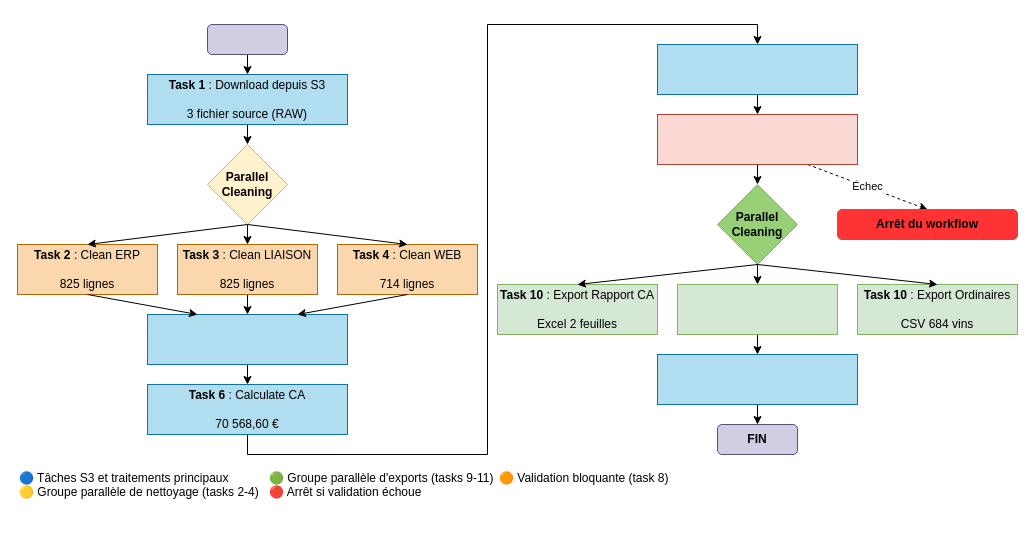
This 1035x547 diagram has some shape labels left out. The centre of each missing label's shape, as x and y in pixels:
DÉBUT: point (247, 39)
Task 10 : Export Premium CSV 30 vins: point (757, 309)
Task 12 : Upload vers S3 EXPORT/YYYYMMDD_HHMMSS/: point (757, 379)
Task 5 : Merge Data 714 lignes fusionnées: point (247, 339)
Task 7 : Classify Wines 30 premium, 684 ordinaires: point (757, 69)
Task 8 : Validation 5 tests : BLOQUANT: point (757, 139)
